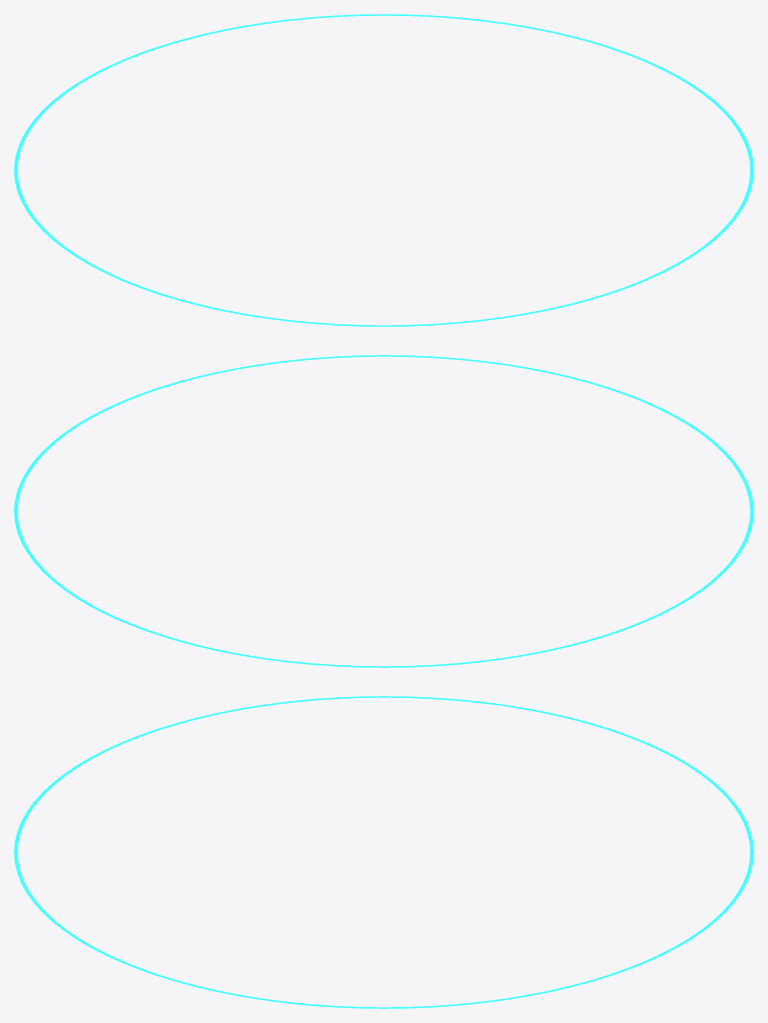
The model's file is SM_RemoteBase_Scan.fbx.
The picture shows the model from 3 angles, top to bottom: view 1: azimuth 30°, elevation 25°; view 2: azimuth 150°, elevation 25°; view 3: azimuth 270°, elevation 25°; orthographic projection.
Parts seen in each view (by area): view 1: SM_RemoteBase_Scan; view 2: SM_RemoteBase_Scan; view 3: SM_RemoteBase_Scan.
Part boxes in pixels (left/top/right/bottom): SM_RemoteBase_Scan: left=14, top=14, right=753, bottom=326; SM_RemoteBase_Scan: left=14, top=355, right=753, bottom=667; SM_RemoteBase_Scan: left=14, top=696, right=753, bottom=1008.
Size of the model in its own units: 493 by 493 by 0.
